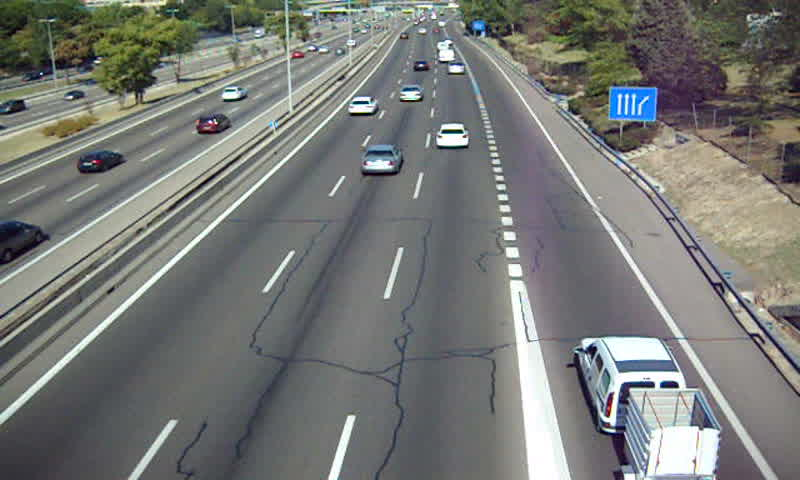car: (360, 144, 403, 173), (436, 124, 469, 148), (346, 96, 376, 118), (398, 85, 424, 104), (448, 62, 466, 76), (411, 60, 429, 74)
van: (576, 334, 689, 434)
